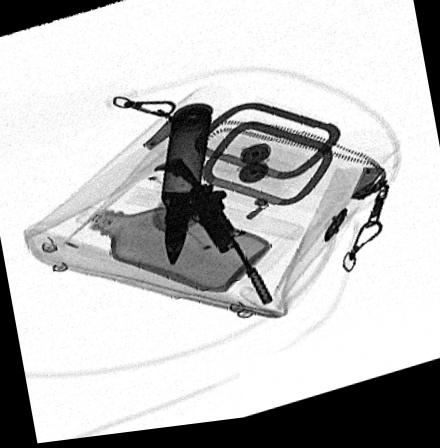Bullet: (159, 107, 211, 269)
Gun: (152, 159, 271, 311)
